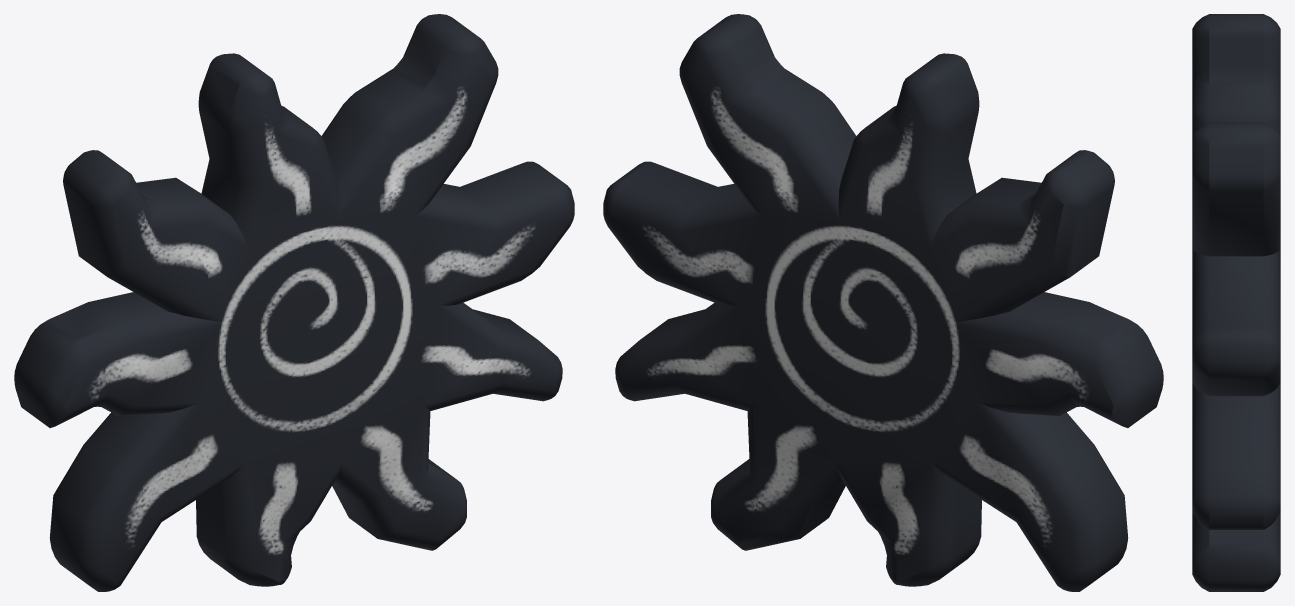
The model's file is Sun.fbx.
3 renders of one model, left to right at view 1: azimuth 30°, elevation 25°; view 2: azimuth 150°, elevation 25°; view 3: azimuth 270°, elevation 25°, orthographic. The views are drawn at different scales.
Visible parts, largest first — view 1: m_Sun; view 2: m_Sun; view 3: m_Sun.
Part boxes in pixels (x1,y1,x2,y2): m_Sun: (14,14,574,591); m_Sun: (603,14,1163,591); m_Sun: (1192,14,1280,591).
Bounding box in the file's own units: 0.6574 × 0.6147 × 0.1.
